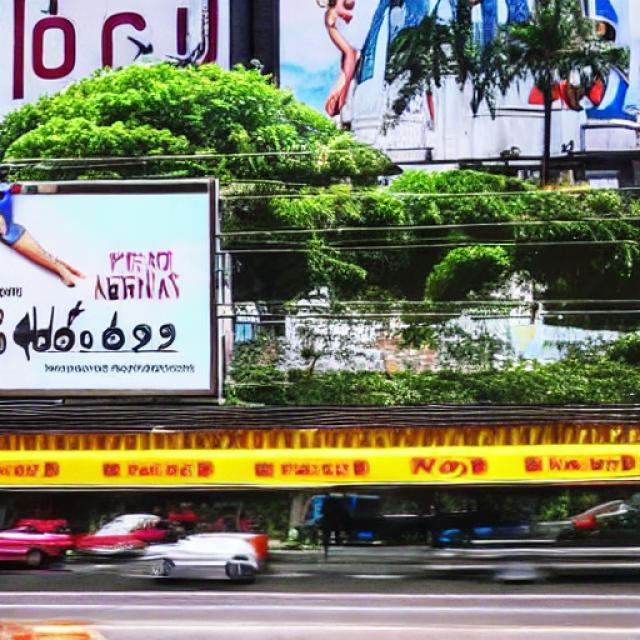Billboard: (275, 0, 640, 162), (0, 182, 217, 404)
